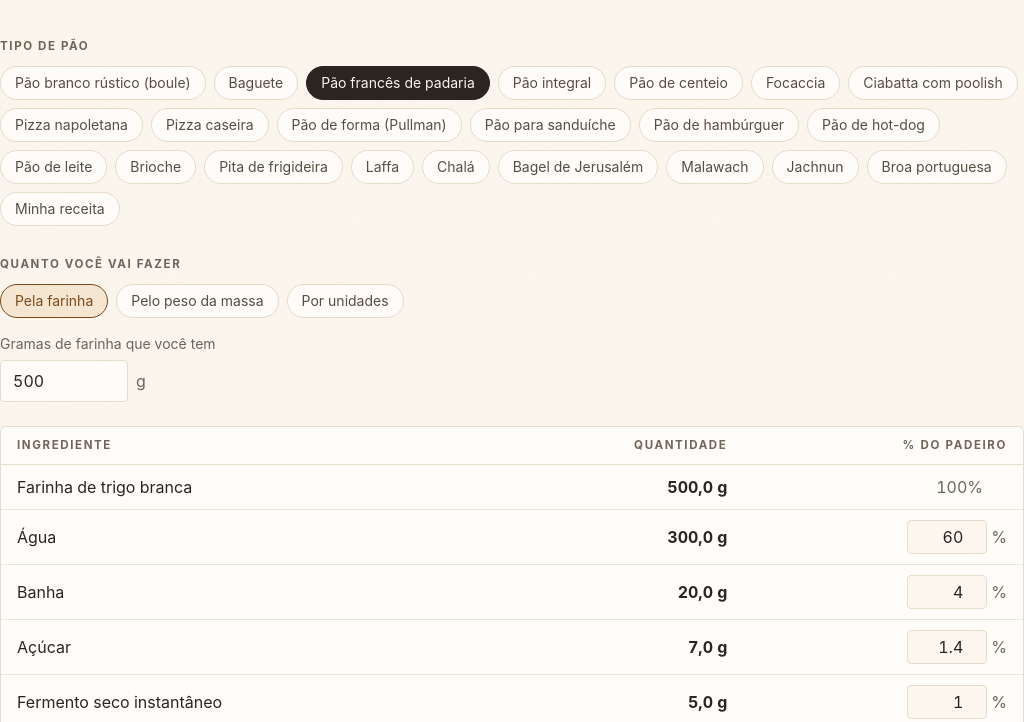
Scenario: a calculadora em receita própria › deixa acrescentar e tirar ingrediente
This screenshot has width=1024, height=722.
Click the button "Minha receita" at [60, 209], box x1=0 y1=192 x2=120 y2=226
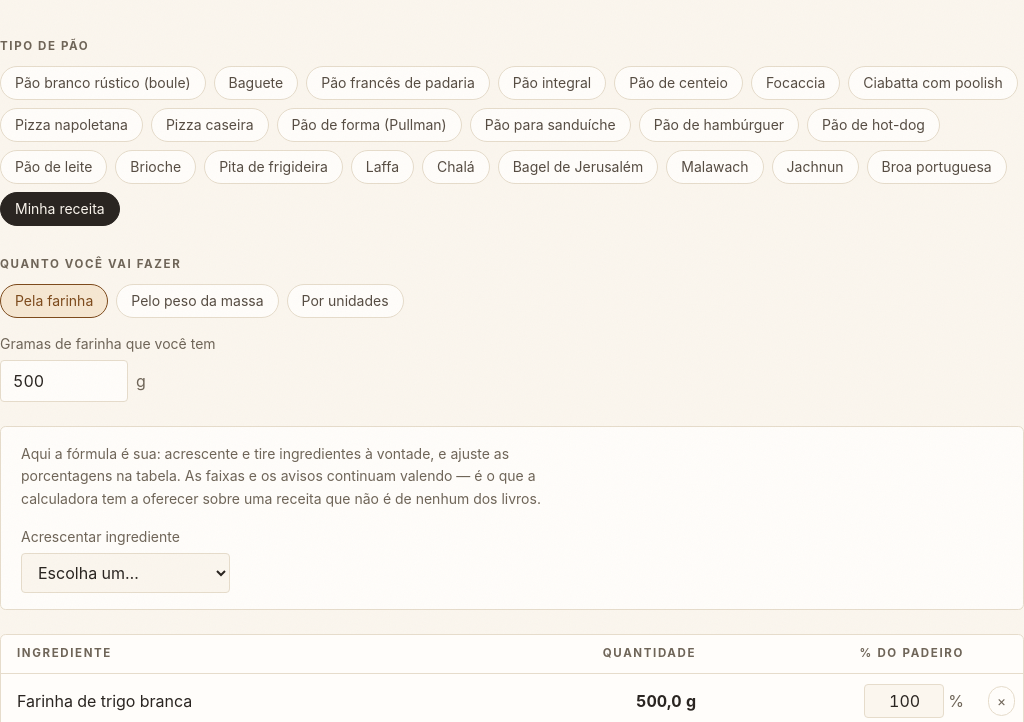
Select "Manteiga" in the dropdown labelled "Acrescentar ingrediente" at [126, 573], box x1=21 y1=553 x2=230 y2=593
(page scrolled)
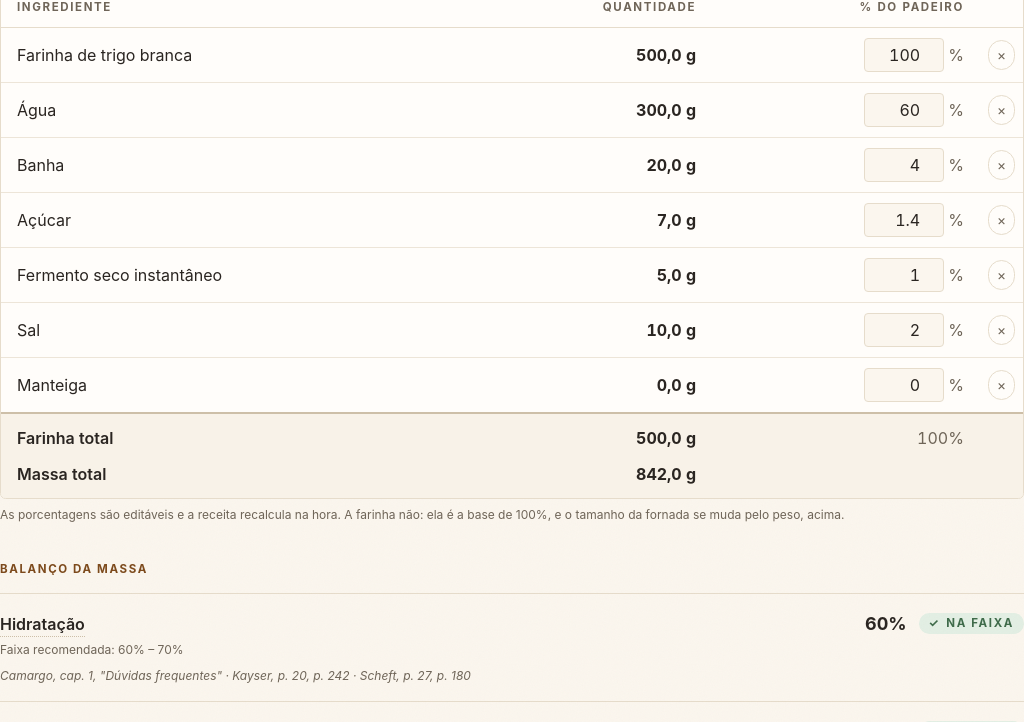
Expected: the column heading "Manteiga" is shown, x1=1 y1=357 x2=466 y2=413
Click the button "×" in the row of "Manteiga" at [1001, 385], box x1=988 y1=370 x2=1015 y2=400
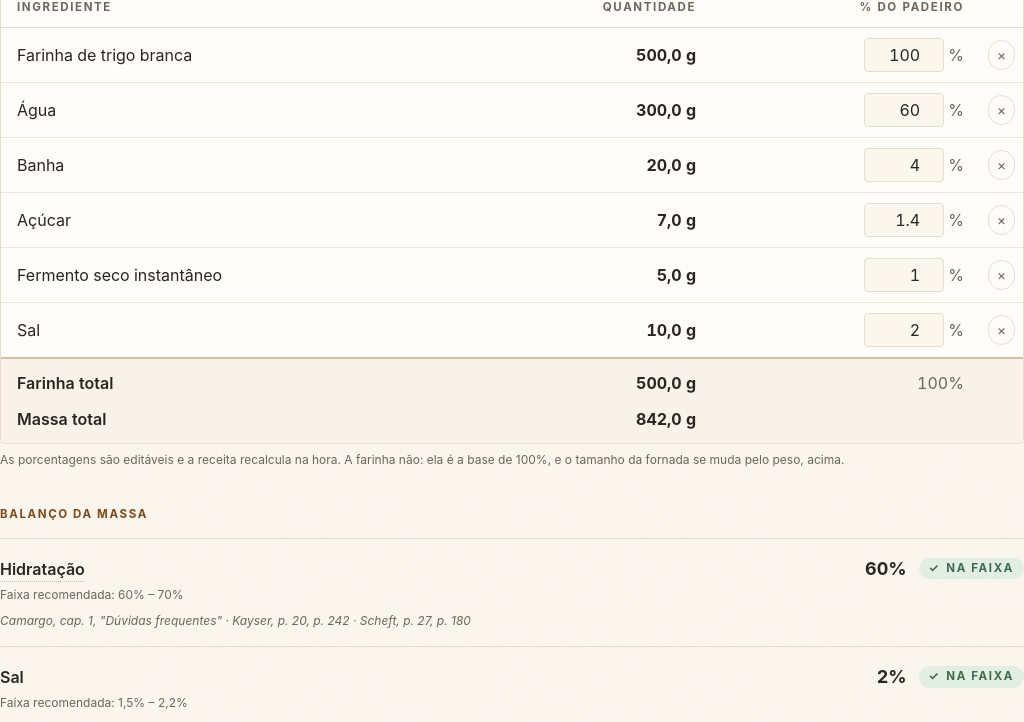
Expected: the column heading "Manteiga" is gone
